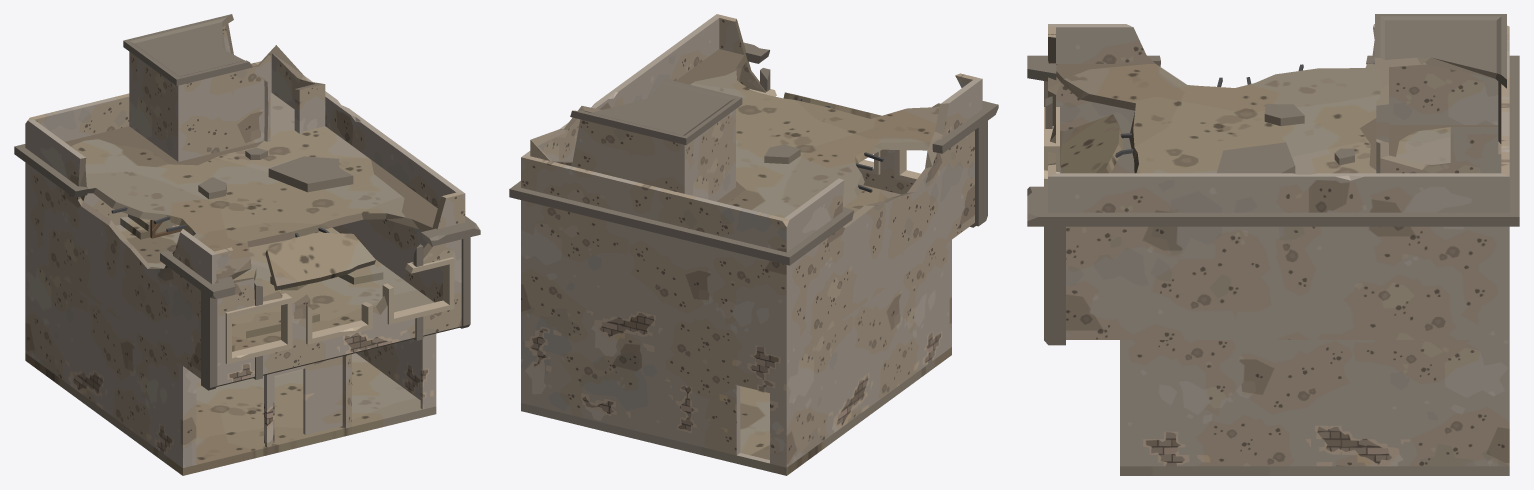
Rendered from SM_Bld_Shop_11_Destroyed.fbx.
3 renders of one model, left to right at view 1: azimuth 30°, elevation 25°; view 2: azimuth 150°, elevation 25°; view 3: azimuth 270°, elevation 25°, orthographic. The views are drawn at different scales.
Parts seen in each view (by area): view 1: SM_Bld_Shop_11_Destroyed; view 2: SM_Bld_Shop_11_Destroyed; view 3: SM_Bld_Shop_11_Destroyed.
Part boxes in pixels (x1,y1,x2,y2): SM_Bld_Shop_11_Destroyed: [14, 14, 480, 475]; SM_Bld_Shop_11_Destroyed: [509, 14, 998, 475]; SM_Bld_Shop_11_Destroyed: [1027, 14, 1519, 475].
Size of the model in its own units: 945 by 1005 by 1220.
